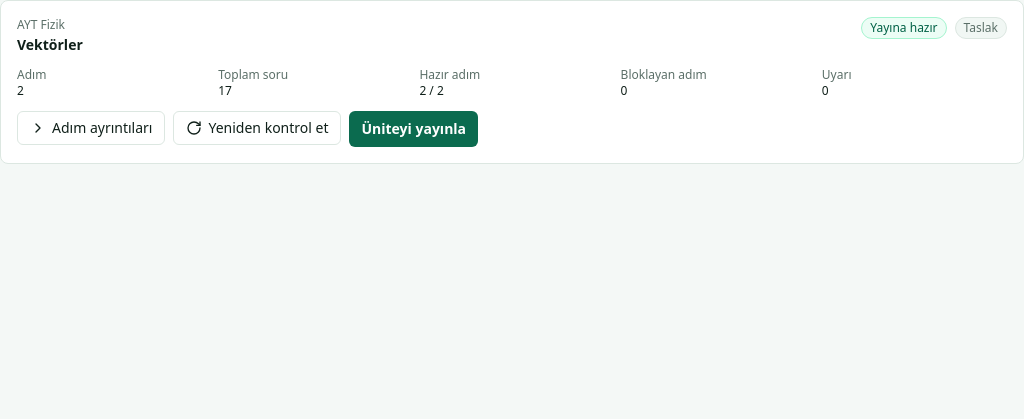
Test case: PublishingUnitCard › publishes after its own confirmation and reports it
This screenshot has width=1024, height=419.
Click the button "Üniteyi yayınla": (414, 129) [350,111,478,147]
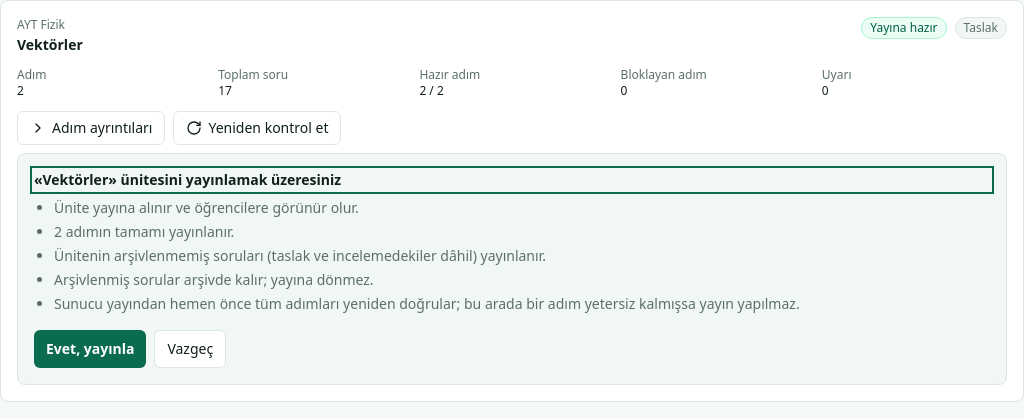
Click the button "Evet, yayınla": (90, 349) [34,330,146,368]
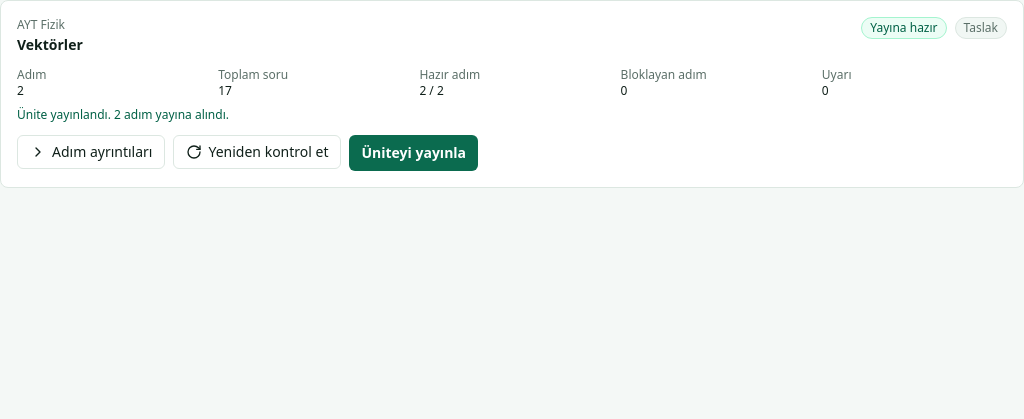
Result: the text "Ünite yayınlandı. 2 adım yayına alındı." is shown at [17,106,229,123]
